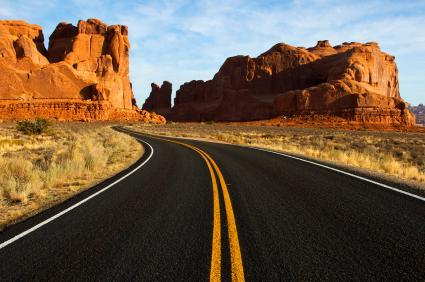mountain: (179, 36, 420, 125), (0, 16, 175, 130)
